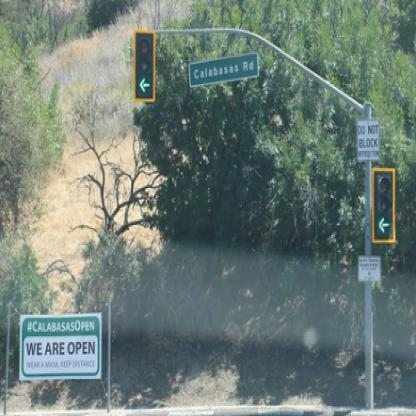left-green: (372, 169, 395, 242), (135, 31, 155, 100)
